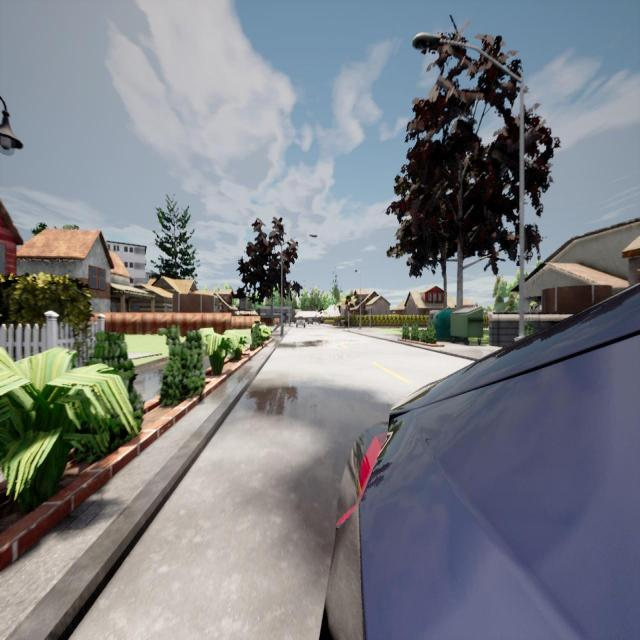Vehicle: (318, 281, 639, 640), (295, 315, 306, 328), (308, 319, 313, 325)
traffic_light: (348, 302, 350, 310)
